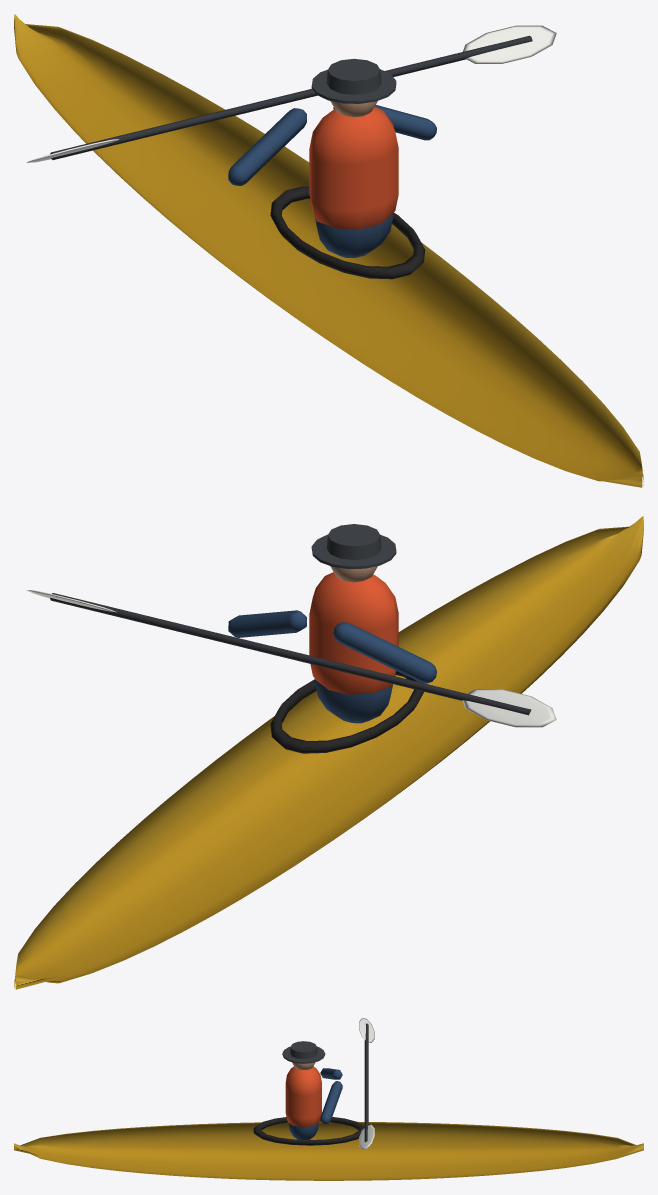
Rendered from kayak.glb.
3 renders of one model, top to bottom at view 1: azimuth 30°, elevation 25°; view 2: azimuth 150°, elevation 25°; view 3: azimuth 270°, elevation 25°, orthographic. The views are drawn at different scales.
Parts seen in each view (by area): view 1: kayak-hull, paddler, paddle; view 2: kayak-hull, paddler, paddle; view 3: kayak-hull, paddler, paddle.
Part boxes in pixels (box(x1,y1,x2,y2)): kayak-hull: box(14, 14, 643, 487); paddler: box(228, 58, 436, 257); paddle: box(26, 25, 556, 162); kayak-hull: box(14, 516, 643, 989); paddler: box(228, 524, 436, 723); paddle: box(26, 590, 556, 727); kayak-hull: box(14, 1117, 643, 1180); paddler: box(282, 1041, 342, 1139); paddle: box(359, 1018, 374, 1149).
Bounding box in the file's own units: 2.44 × 1.1 × 5.
